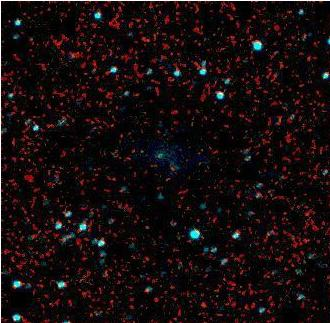star: (189, 288, 219, 318)
